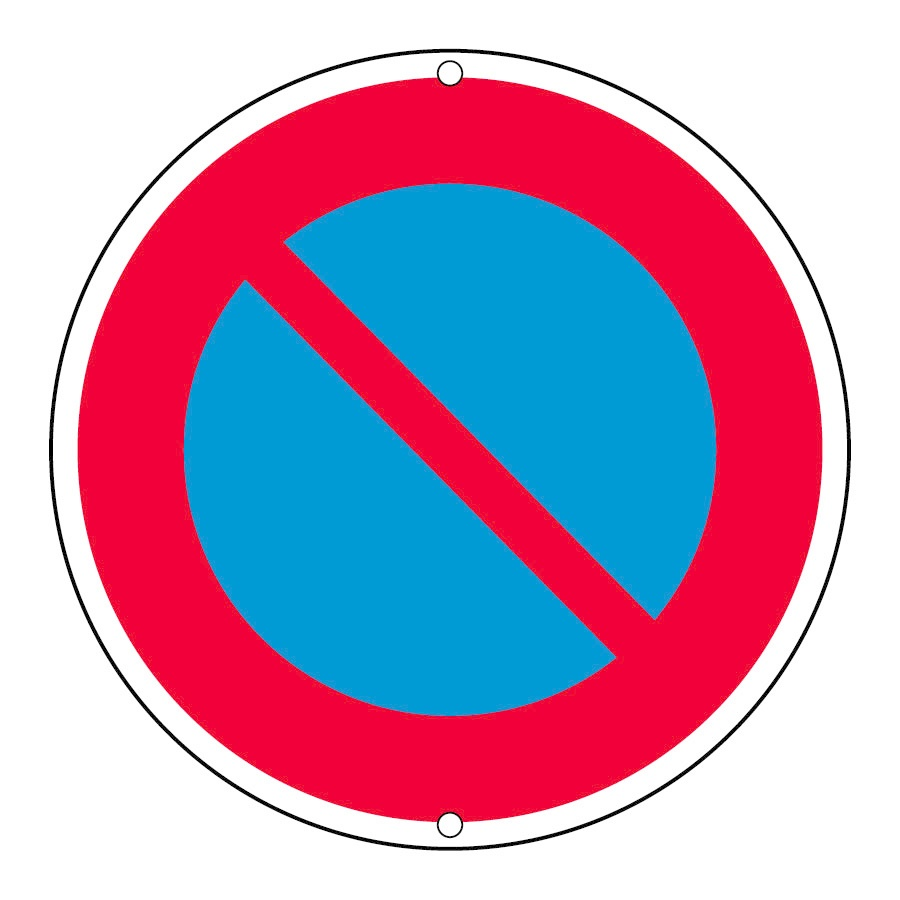Prohibition_sign: (22, 41, 848, 876)
